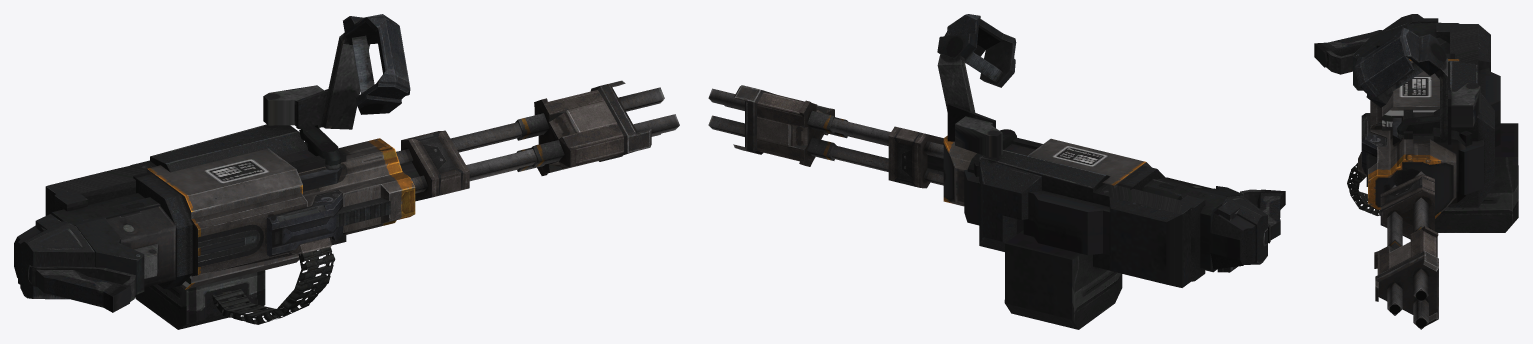
The model's file is t6_wpn_minigun_world_LOD1.obj.
3 views of the same model, side by side, from view 1: azimuth 30°, elevation 25°; view 2: azimuth 150°, elevation 25°; view 3: azimuth 270°, elevation 25° (orthographic). The views are drawn at different scales.
Parts seen in each view (by area): view 1: mtl_t6_wpn_minigun, mtl_t6_wpn_minigun_ammo_noalpha; view 2: mtl_t6_wpn_minigun; view 3: mtl_t6_wpn_minigun, mtl_t6_wpn_minigun_ammo_noalpha.
Boxes of the visible parts, x1,y1,x2,y2 form: mtl_t6_wpn_minigun: (14, 14, 679, 329); mtl_t6_wpn_minigun_ammo_noalpha: (212, 247, 335, 324); mtl_t6_wpn_minigun: (708, 14, 1285, 329); mtl_t6_wpn_minigun: (1314, 14, 1518, 329); mtl_t6_wpn_minigun_ammo_noalpha: (1347, 163, 1380, 215).
Bounding box in the file's own units: 121 × 51.02 × 38.38.
